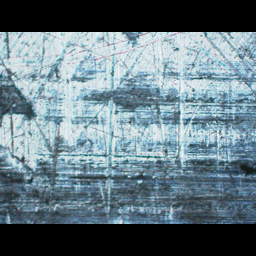d: (2, 32, 255, 194)
